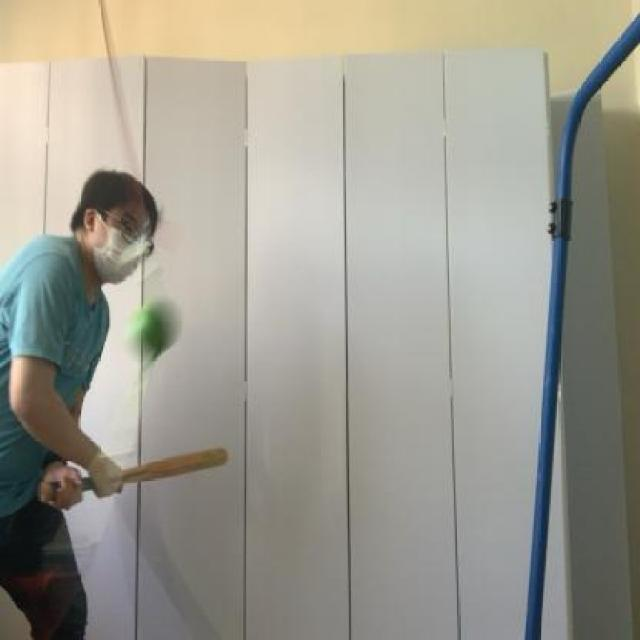baseball: (136, 289, 182, 366)
